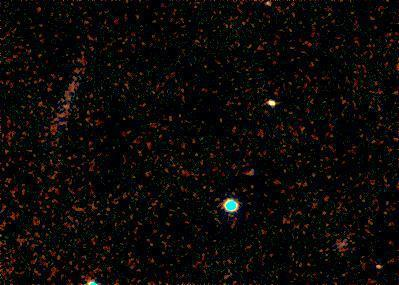star: (256, 90, 286, 120)
